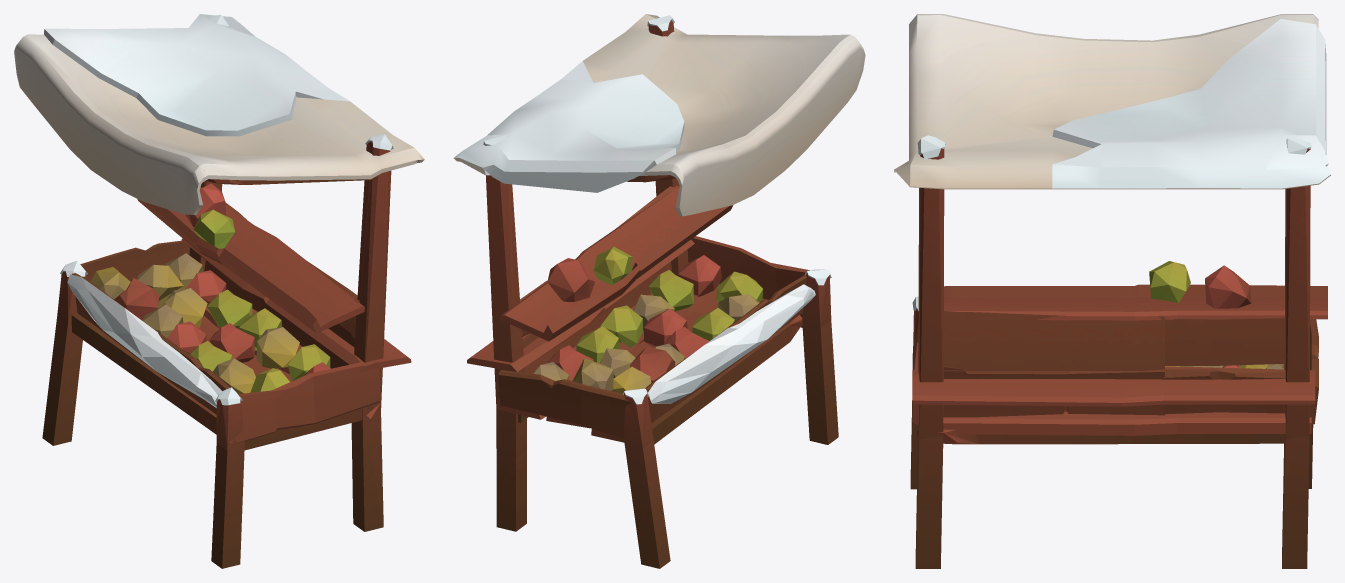
The picture shows the model from 3 angles, left to right: view 1: azimuth 30°, elevation 25°; view 2: azimuth 150°, elevation 25°; view 3: azimuth 270°, elevation 25°; orthographic projection. The views are drawn at different scales.
Parts seen in each view (by area): view 1: SnowyMarketStandSmall; view 2: SnowyMarketStandSmall; view 3: SnowyMarketStandSmall.
Part boxes in pixels (box(x1,y1,x2,y2)): SnowyMarketStandSmall: box(14, 14, 424, 568); SnowyMarketStandSmall: box(453, 14, 865, 568); SnowyMarketStandSmall: box(894, 14, 1330, 568).
Bounding box in the file's own units: 93.61 × 160 × 138.
Materials: 1 (1 with a texture image).
